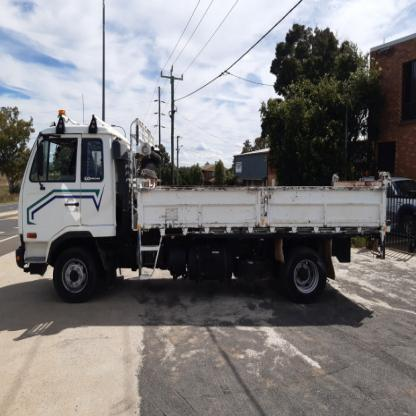dump_truck: (4, 101, 405, 315)
